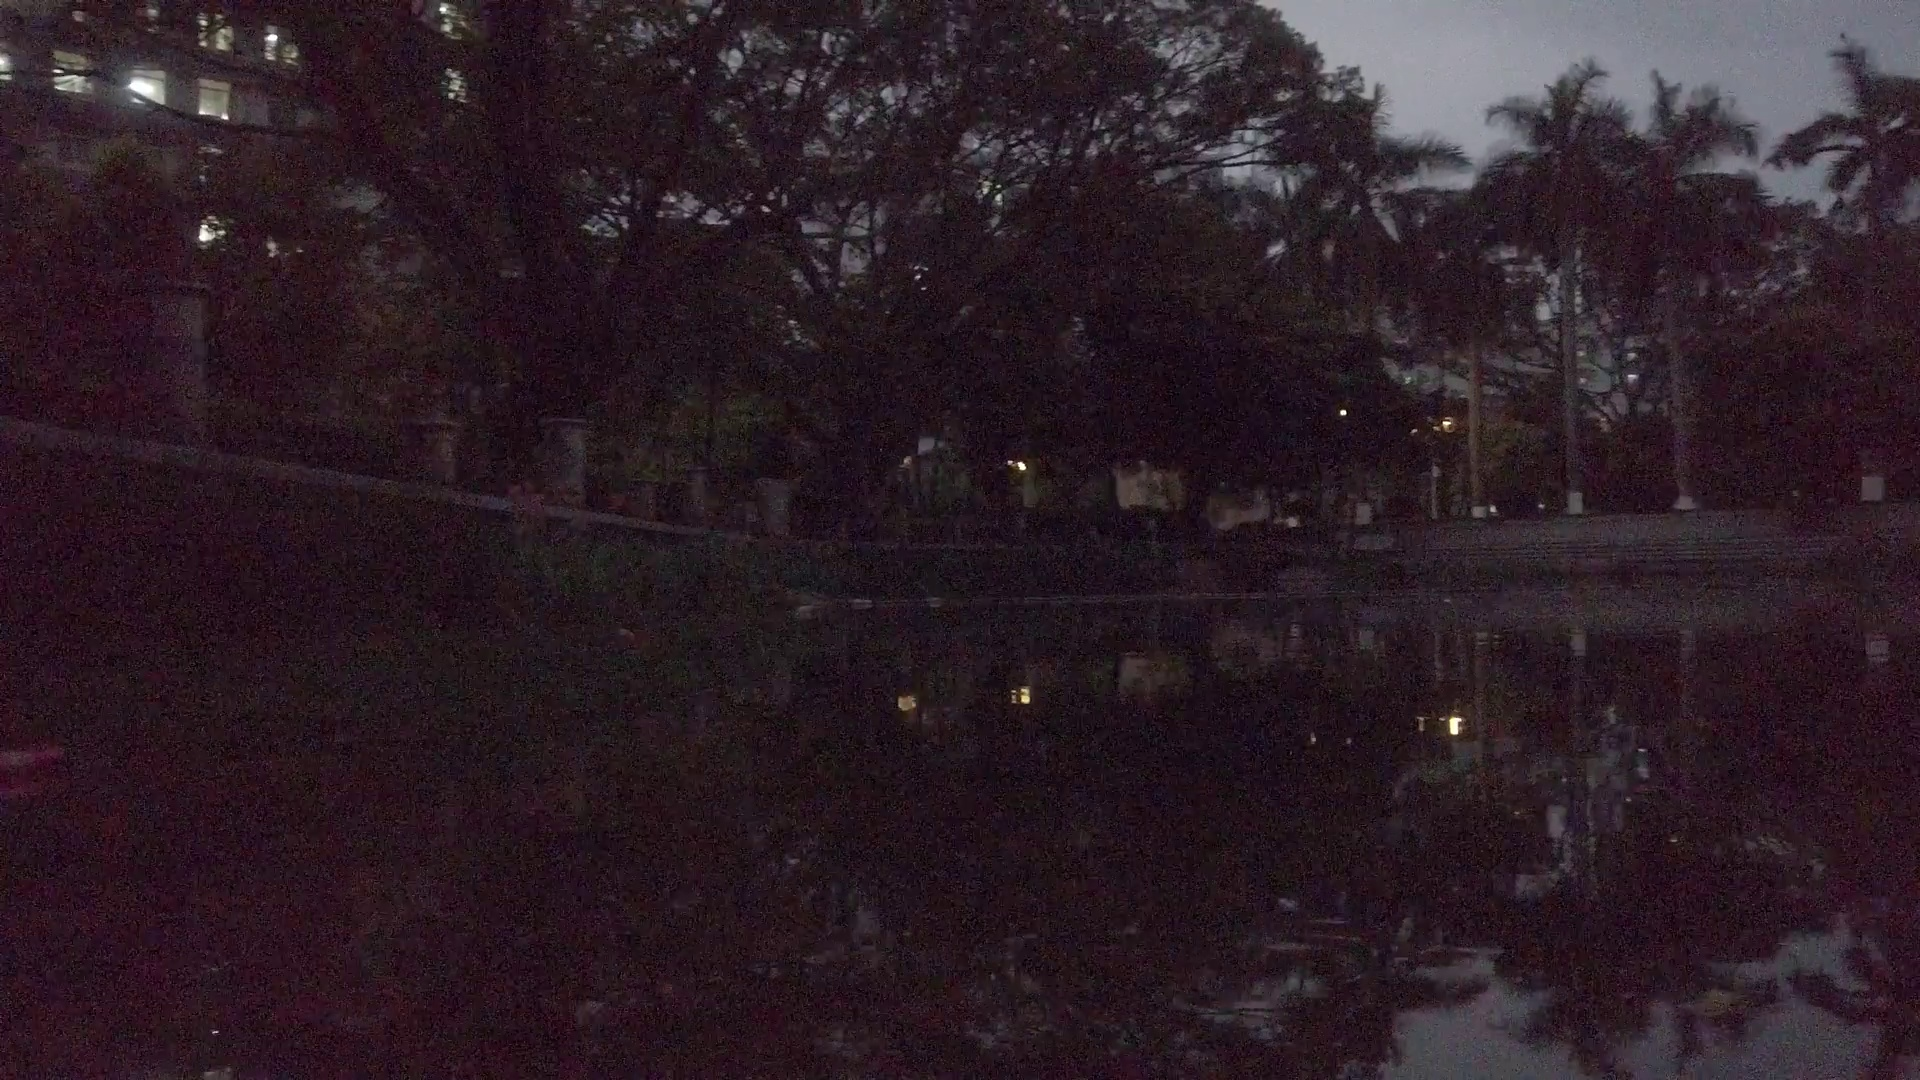bottle: (7, 742, 67, 785), (620, 626, 659, 646), (796, 599, 818, 618), (919, 593, 945, 607), (851, 596, 874, 607)
